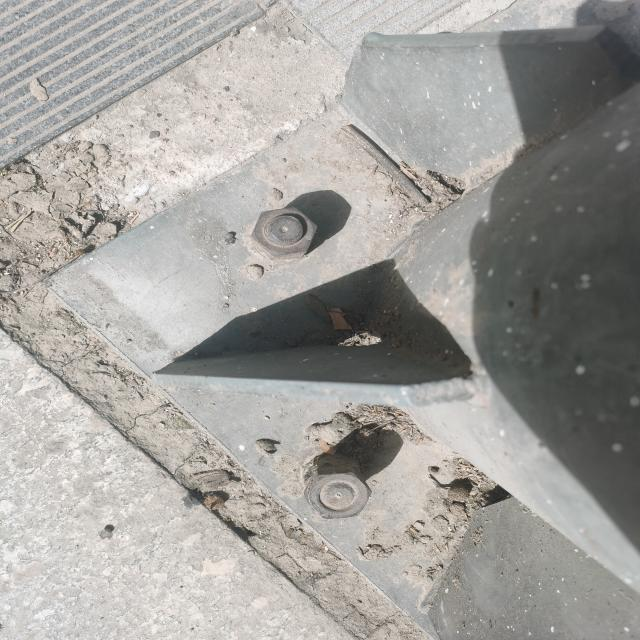bolt nut: (301, 465, 372, 520), (250, 206, 318, 260)
